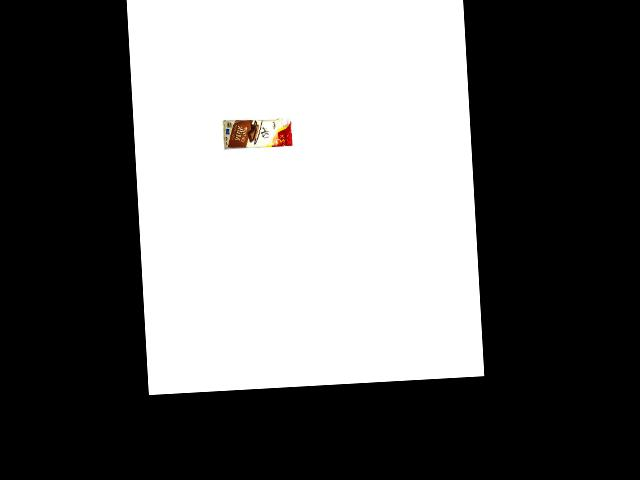chocolate: (224, 115, 294, 151)
